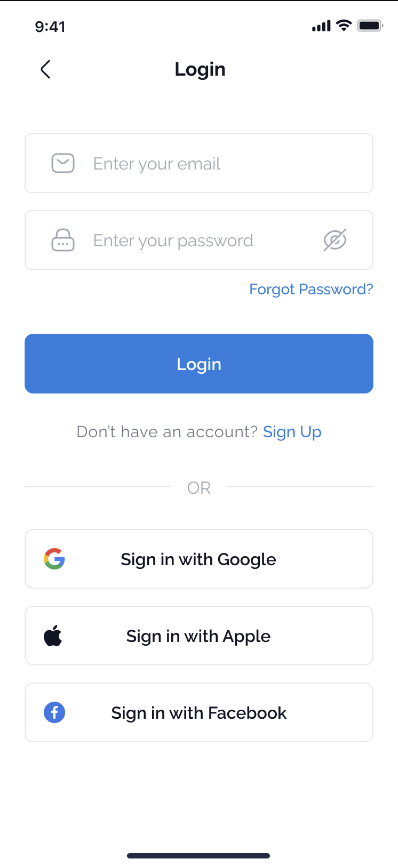Input: (21, 129, 375, 196), (23, 208, 373, 272)
